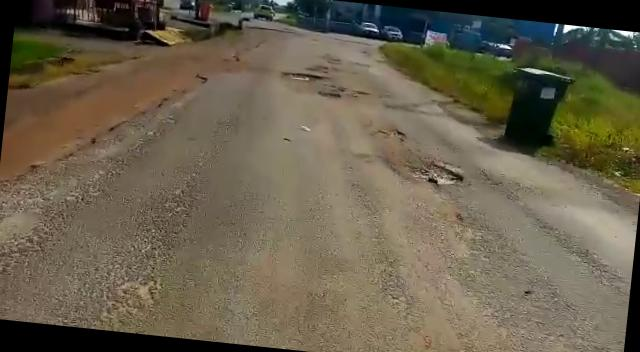pothole: (395, 156, 465, 192), (280, 68, 322, 82), (316, 90, 342, 102)
